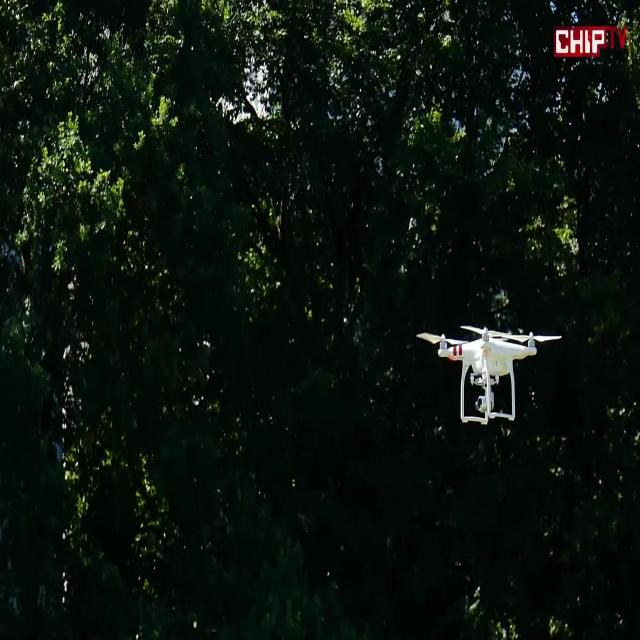drone: (415, 320, 562, 424)
